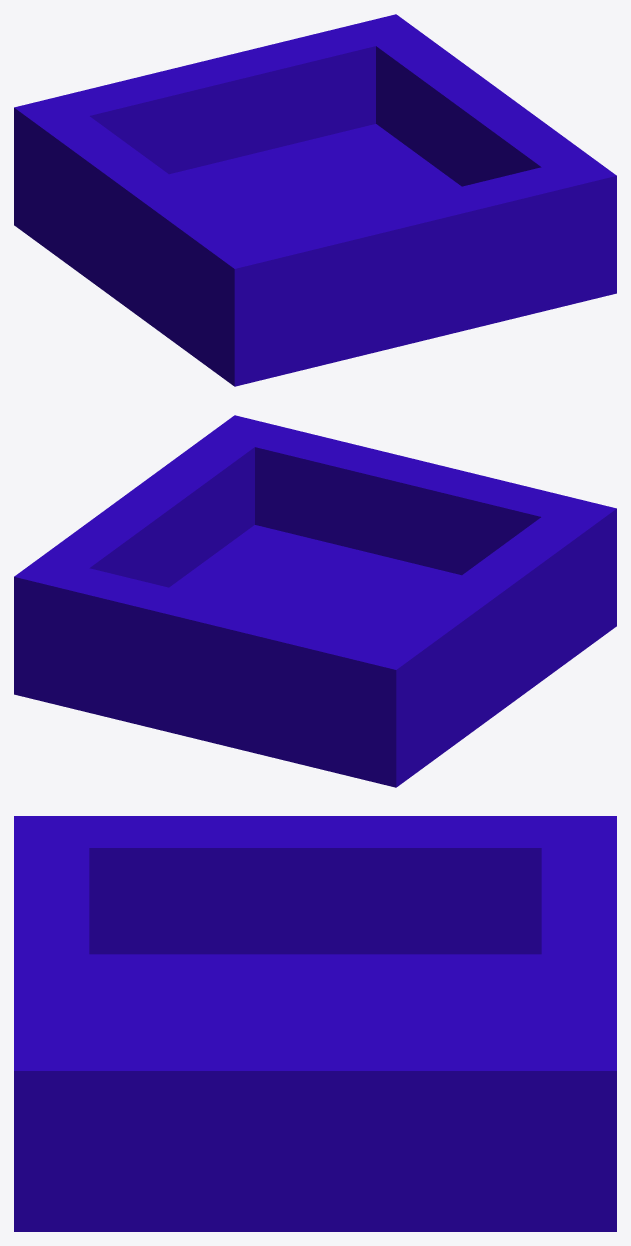
Rendered from start.obj.
3 renders of one model, top to bottom at view 1: azimuth 30°, elevation 25°; view 2: azimuth 150°, elevation 25°; view 3: azimuth 270°, elevation 25°, orthographic. The views are drawn at different scales.
Visible parts, largest first — view 1: Cube; view 2: Cube; view 3: Cube.
Boxes of the visible parts, left/top/right/bottom form: Cube: left=14, top=14, right=616, bottom=386; Cube: left=14, top=415, right=616, bottom=787; Cube: left=14, top=816, right=616, bottom=1231.
Bounding box in the file's own units: 1000 × 294 × 1000.
